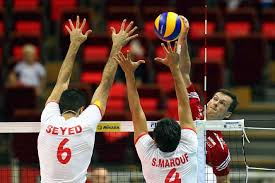ball: (153, 11, 184, 43)
